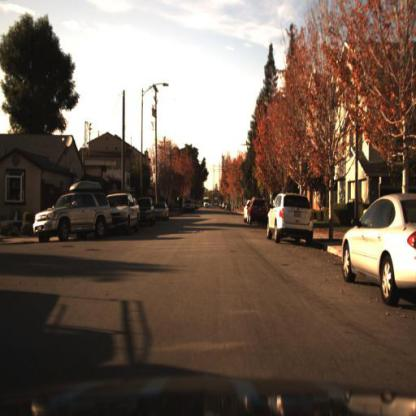car: (342, 191, 416, 309), (33, 180, 115, 244), (35, 181, 112, 245), (266, 191, 317, 251), (265, 191, 315, 244), (109, 189, 142, 239), (112, 188, 142, 232), (247, 197, 272, 228), (137, 196, 156, 225), (140, 195, 155, 229), (154, 196, 172, 224), (181, 198, 197, 217)
